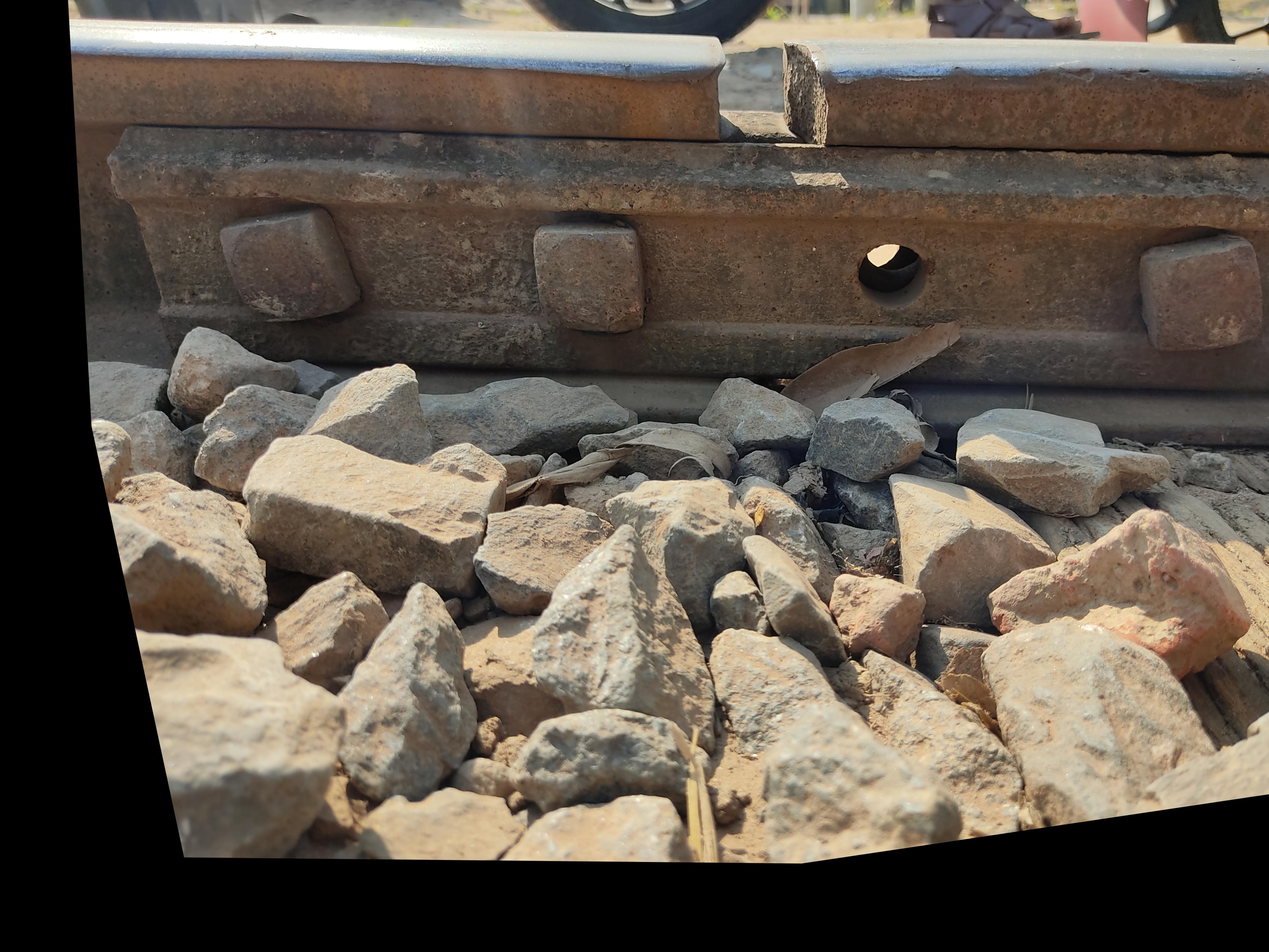person: (686, 0, 944, 146)
